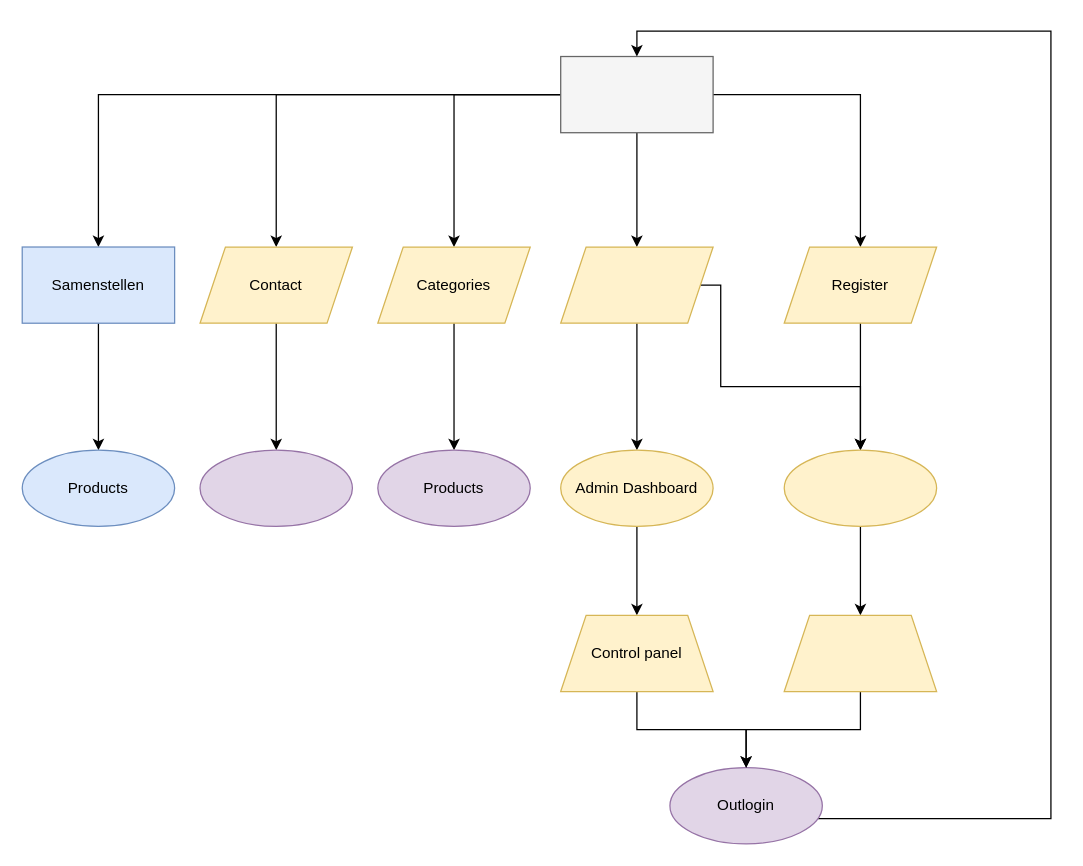
Some shapes in this 1083 by 866 pixel diagram are drawn without their labels. The centre of each missing label's shape, as x and y in pixels:
Contactformulier: (275,487)
Home: (636,94)
Login: (636,284)
User Dashboard: (860,487)
User profile: (860,653)
